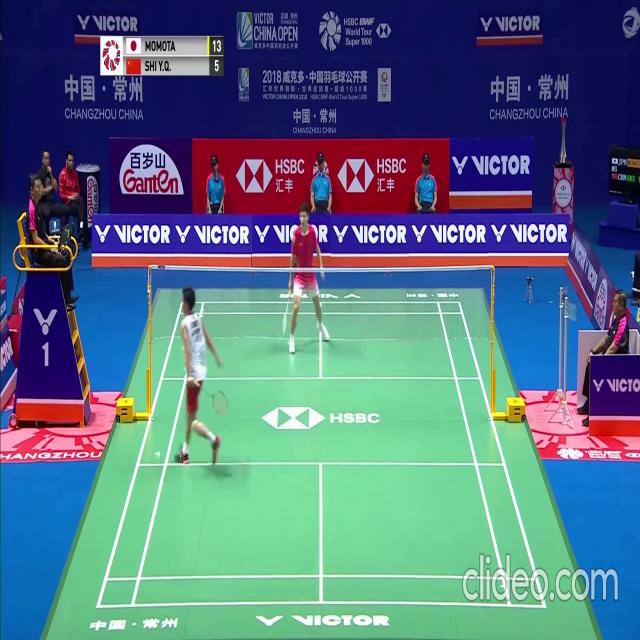Shuttlecock: (156, 449, 160, 456)
